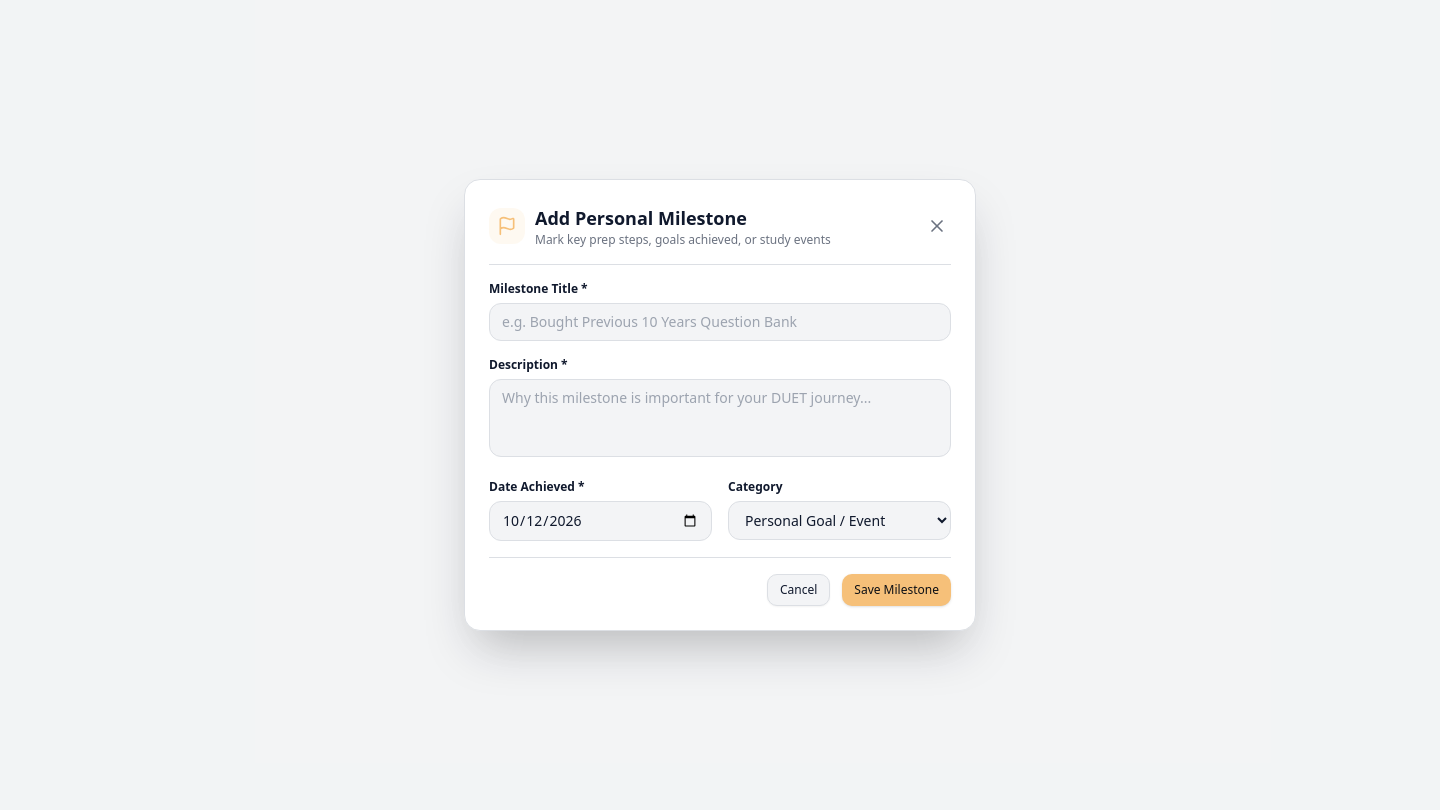
Test: AddMilestoneModal › shows validation error when title is too short
Step 1. Type "A" into the field labelled "Milestone Title *" → coordinates (720, 322), box left=489, top=303, right=951, bottom=341
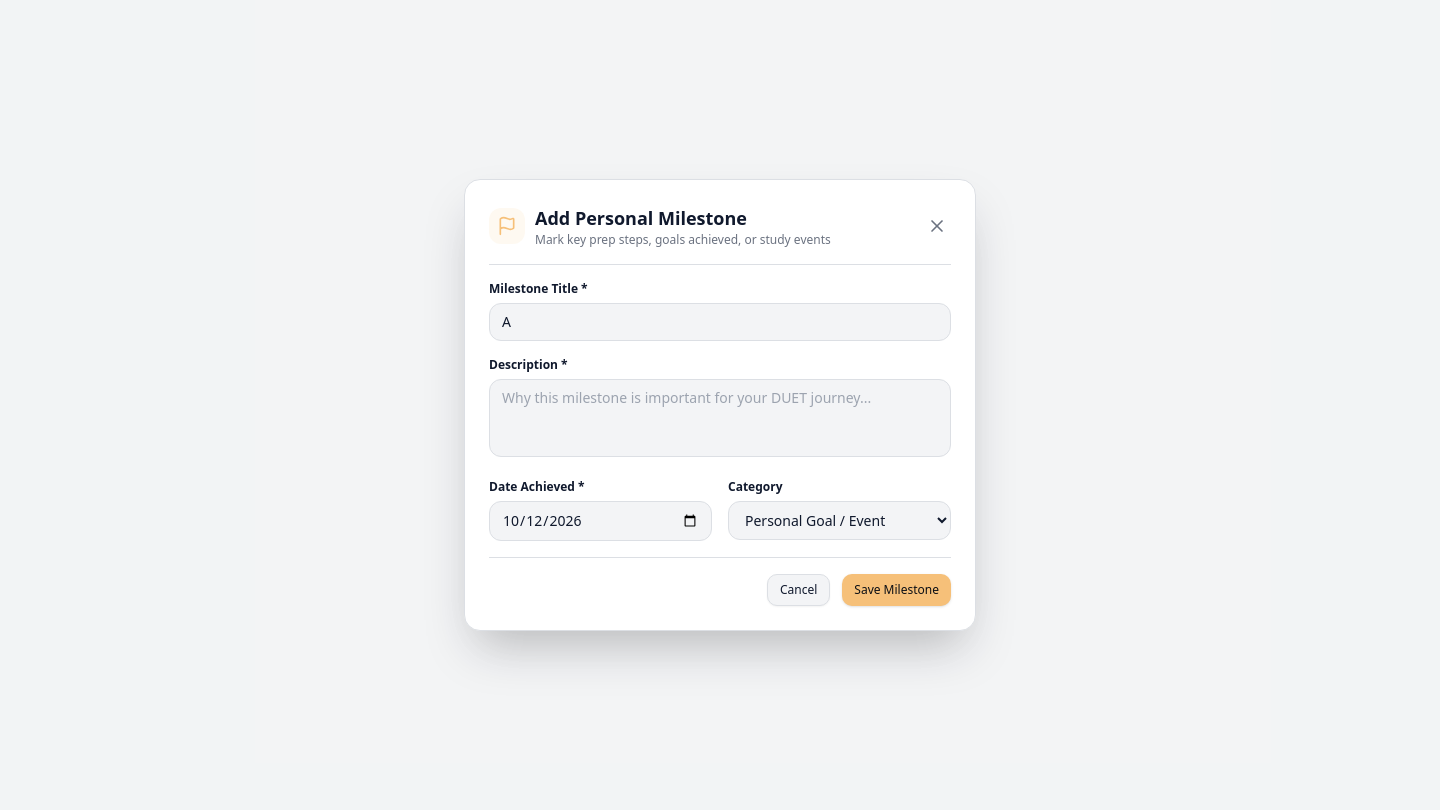
Step 2. Type "Valid description text" into the text box labelled "Description *" → coordinates (720, 418), box left=489, top=379, right=951, bottom=457
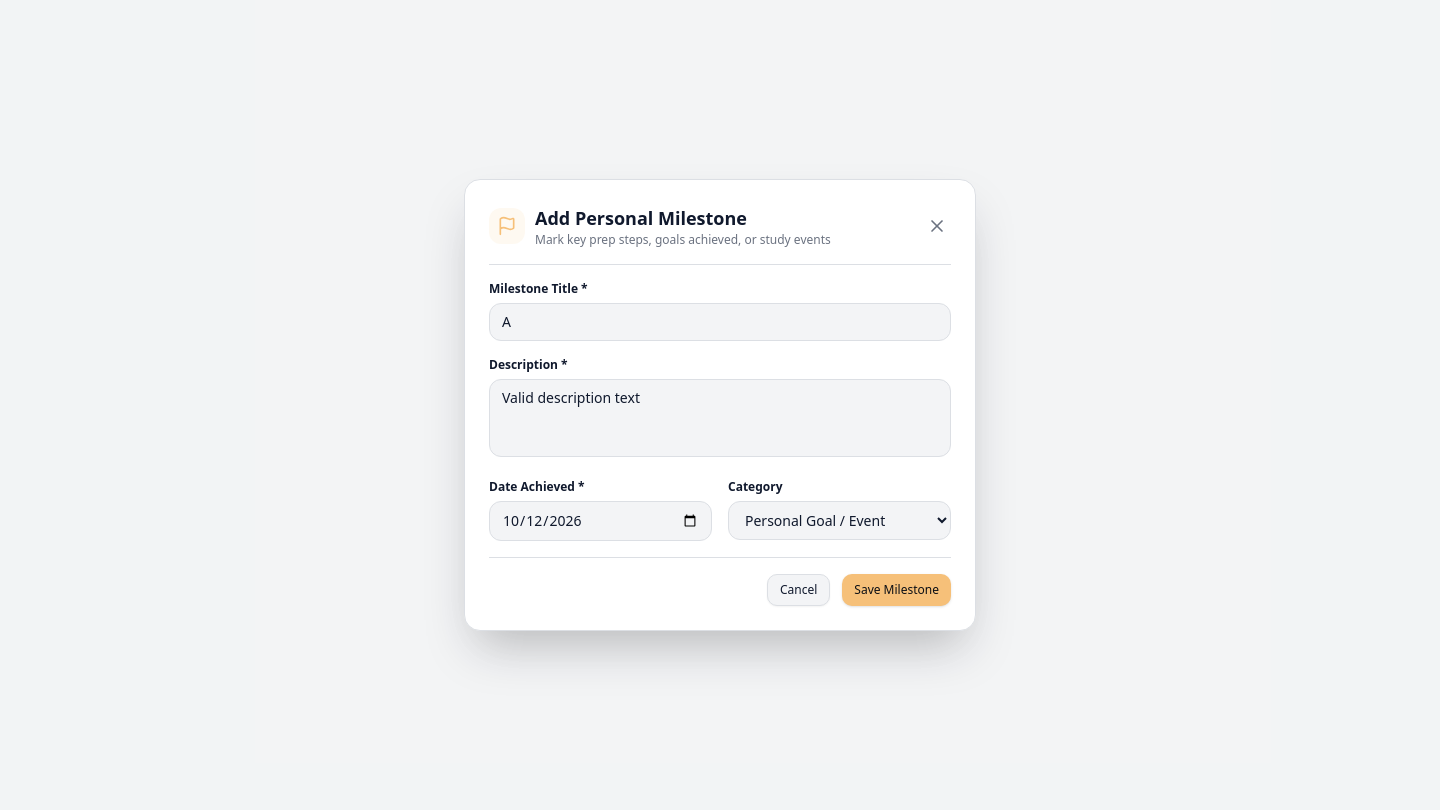
Step 3. Click the button "Save Milestone" → coordinates (897, 590), box left=842, top=574, right=951, bottom=606
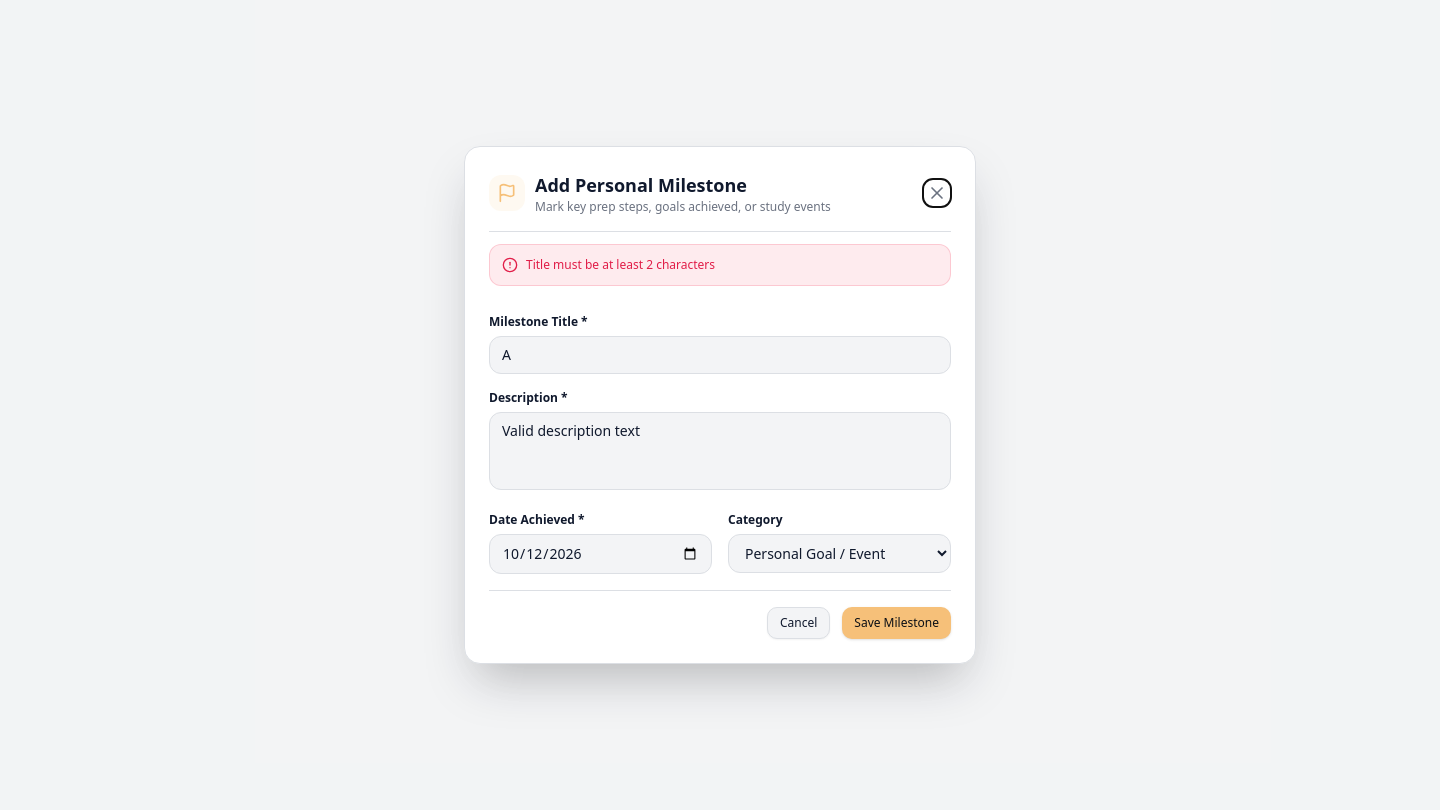
Now the text "Title must be at least 2 characters" is shown, box left=526, top=257, right=715, bottom=273
